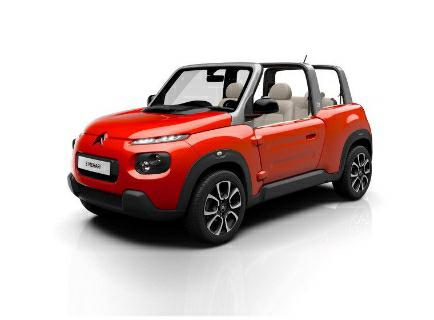雪铁龙-C4Cactus: (57, 52, 381, 254)
